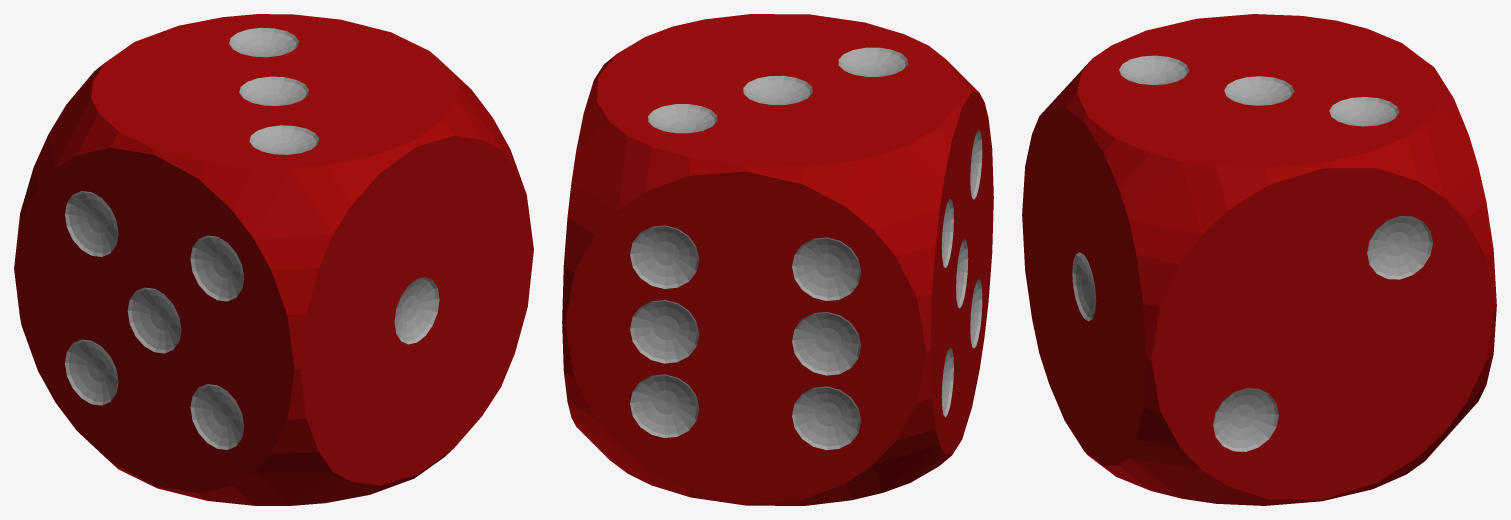
Rendered from rounded-dice.obj.
The picture shows the model from 3 angles, left to right: view 1: azimuth 30°, elevation 25°; view 2: azimuth 150°, elevation 25°; view 3: azimuth 270°, elevation 25°; orthographic projection.
Visible parts, largest first — view 1: 6_Sphere.014; view 2: 6_Sphere.014; view 3: 6_Sphere.014.
Boxes of the visible parts, x1=… form: 6_Sphere.014: x1=14, y1=14, x2=533, y2=505; 6_Sphere.014: x1=562, y1=14, x2=993, y2=505; 6_Sphere.014: x1=1022, y1=14, x2=1496, y2=505.
Bounding box in the file's own units: 2.55 × 2 × 2.55.
